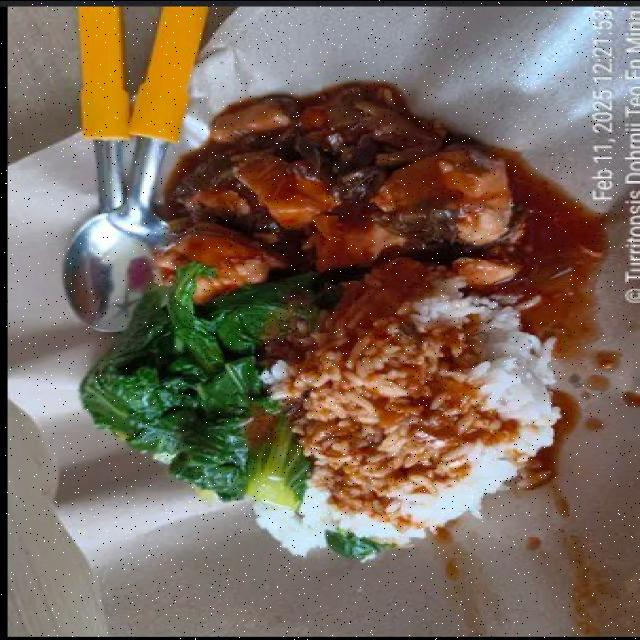Fish: (153, 85, 523, 301)
Green veg: (80, 262, 318, 513)
Rice: (254, 259, 559, 555)
